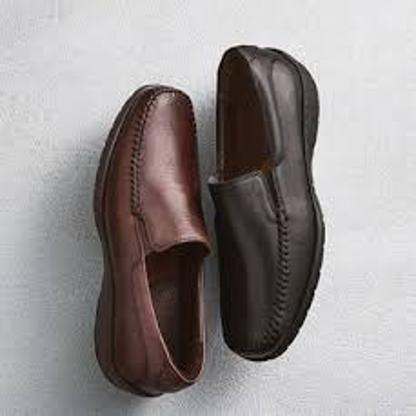not trash: (93, 83, 215, 397), (218, 42, 330, 361)
